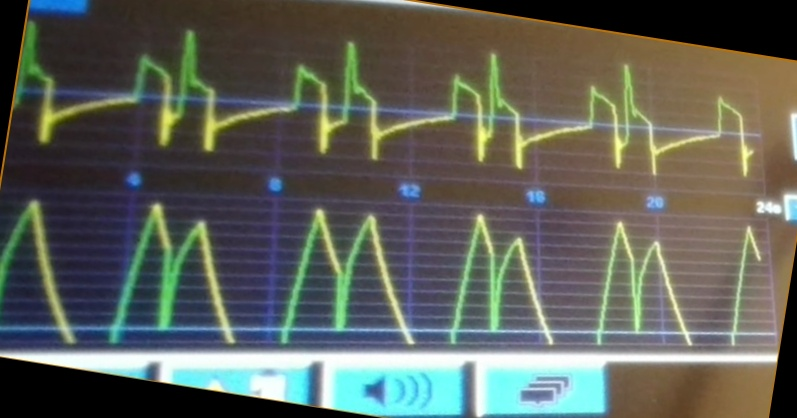Double_Triggering Flow: (23, 22, 666, 174)
Double_Triggering Volume: (104, 202, 698, 347)
